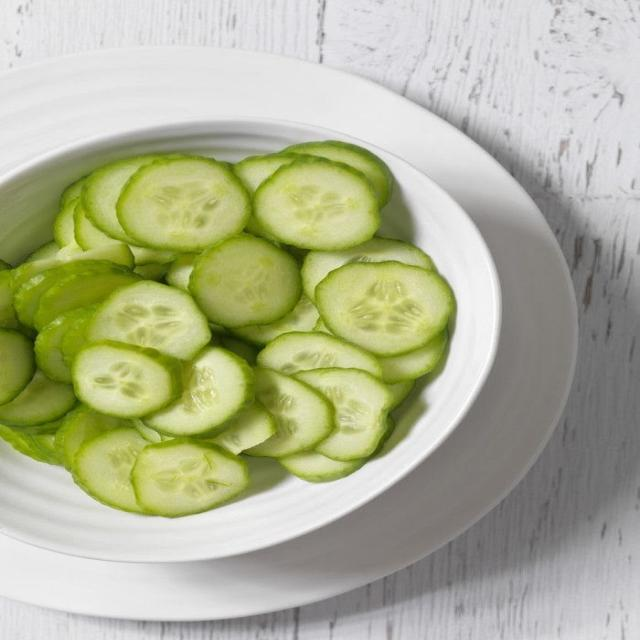cucumber sliced: (316, 262, 454, 356), (117, 157, 250, 252), (254, 158, 379, 250), (190, 235, 301, 328), (144, 347, 253, 436), (87, 281, 210, 359), (132, 439, 248, 517), (295, 368, 392, 461), (301, 237, 434, 299), (73, 341, 181, 417), (246, 367, 334, 457), (13, 260, 127, 326), (284, 141, 393, 206), (82, 155, 158, 243), (34, 266, 140, 328), (73, 427, 149, 512), (11, 244, 133, 290), (257, 332, 381, 377), (55, 406, 130, 469), (0, 370, 76, 426), (235, 296, 319, 345), (35, 308, 86, 382), (379, 331, 447, 383), (211, 403, 277, 454), (234, 153, 300, 195), (234, 153, 299, 195), (278, 451, 366, 482), (0, 329, 35, 405), (0, 424, 60, 465), (60, 305, 98, 367), (73, 199, 118, 250), (75, 201, 120, 250), (56, 242, 134, 268), (165, 253, 198, 291), (54, 197, 79, 247), (7, 415, 65, 435), (220, 336, 257, 366), (129, 245, 178, 266), (130, 418, 170, 443), (31, 432, 61, 465), (0, 271, 17, 328), (372, 416, 395, 456), (59, 176, 86, 208), (24, 240, 59, 263), (389, 381, 415, 411), (134, 264, 167, 281), (285, 245, 309, 264), (313, 318, 330, 334), (209, 322, 226, 335), (0, 260, 12, 271)
